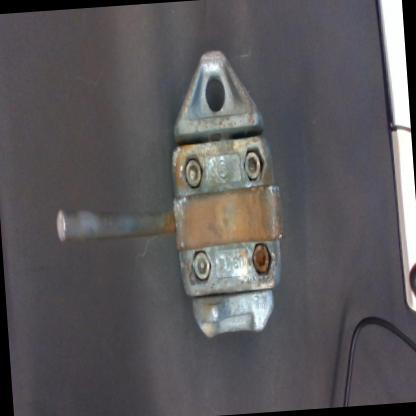Twistlock: (43, 37, 292, 350)
